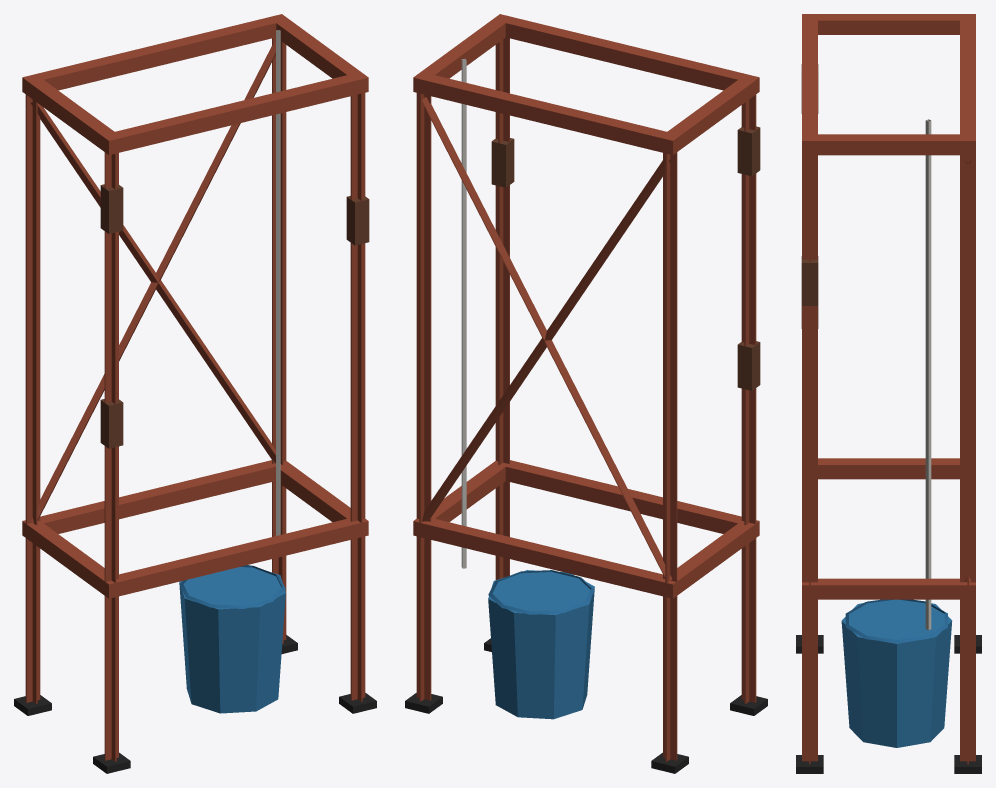
File: gia_cuc_nong_gac.glb
3 views of the same model, side by side, from view 1: azimuth 30°, elevation 25°; view 2: azimuth 150°, elevation 25°; view 3: azimuth 270°, elevation 25° (orthographic).
Visible parts, largest first — view 1: gia_cuc_nong_gac; view 2: gia_cuc_nong_gac; view 3: gia_cuc_nong_gac.
Boxes of the visible parts, x1,y1,x2,y2 form: gia_cuc_nong_gac: (14,14,376,773); gia_cuc_nong_gac: (405,14,767,773); gia_cuc_nong_gac: (796,14,981,773).
Bounding box in the file's own units: 0.79 × 1.78 × 0.47.
